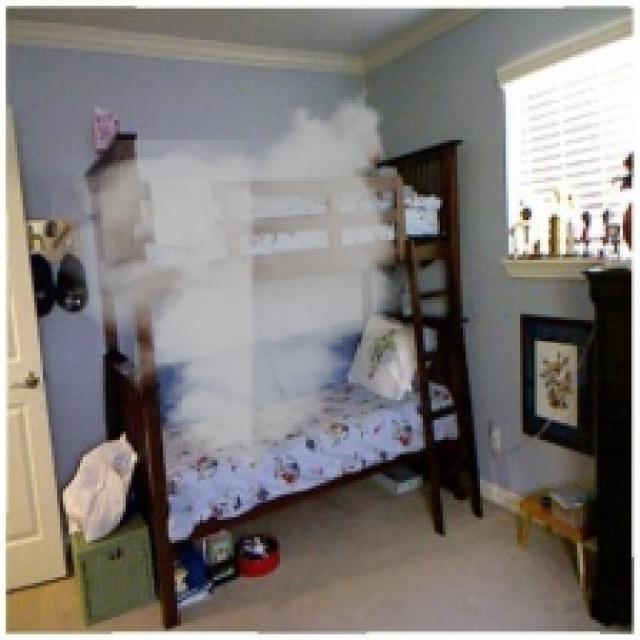smoke: (52, 77, 409, 486)
